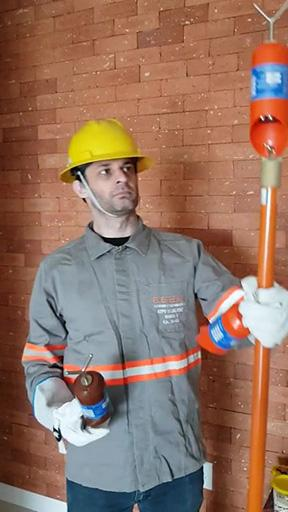Detector_Tensao_Contato: (248, 2, 288, 167), (62, 353, 111, 429)
Vara_Manobra: (246, 156, 282, 512)
